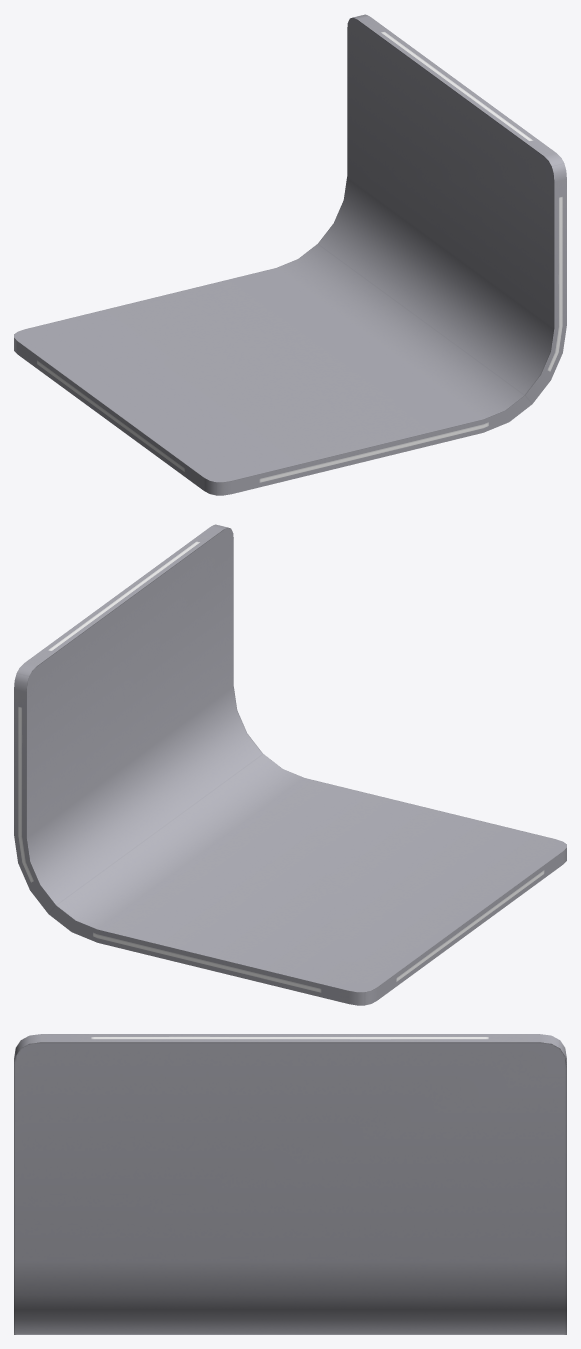
The model's file is Podium_06.FBX.
The picture shows the model from 3 angles, top to bottom: view 1: azimuth 30°, elevation 25°; view 2: azimuth 150°, elevation 25°; view 3: azimuth 270°, elevation 25°; orthographic projection. The views are drawn at different scales.
Visible parts, largest first — view 1: Podium_06; view 2: Podium_06; view 3: Podium_06.
Boxes of the visible parts, x1,y1,x2,y2 form: Podium_06: (14,14,566,495); Podium_06: (14,524,566,1005); Podium_06: (14,1034,566,1334).
Bounding box in the file's own units: 3.93 × 2.68 × 4.
1 material, 1 textured.
